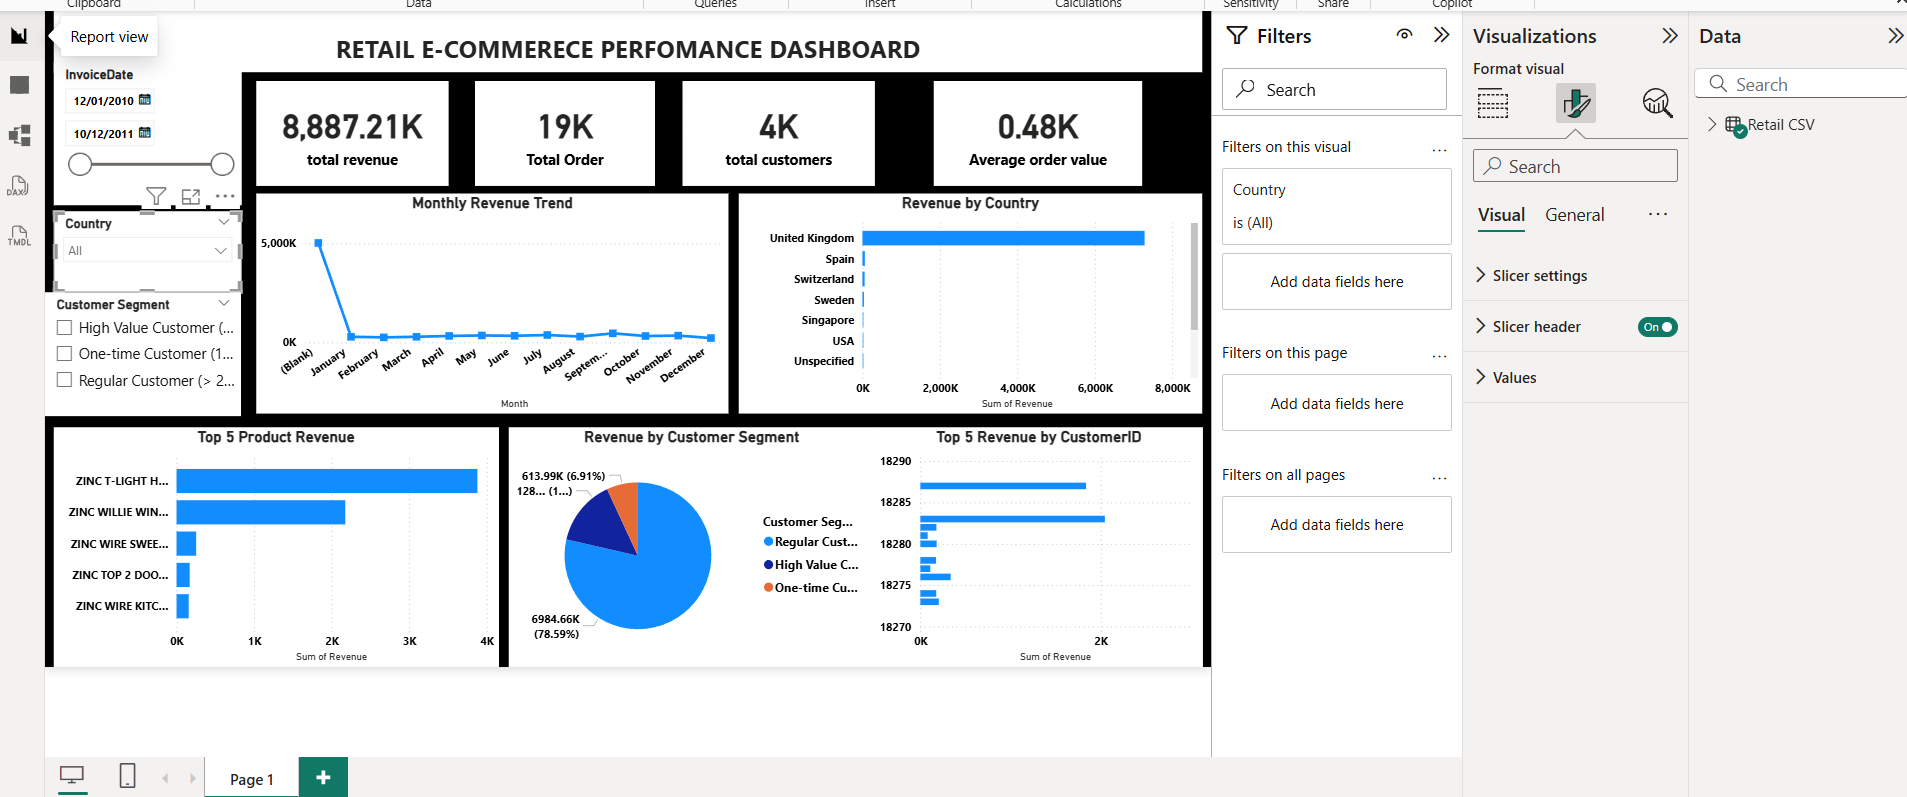

What the dashboard file says about the page in this screenshot:
{"tool":"powerbi","page":{"name":"Page 1","canvas":[1280,720],"ordinal":0},"visuals":[{"type":"textbox","box":[9.6,0,1261.1,67.2],"z":0},{"type":"card","fields":{"Values":["Retail CSV.total revenue"]},"box":[231.9,76.8,211.3,115.3],"z":1000},{"type":"card","fields":{"Values":["Retail CSV.total ORDER"]},"box":[472,76.8,197.6,115.3],"z":2000},{"type":"card","fields":{"Values":["Retail CSV.total customers"]},"box":[699.8,76.8,211.3,115.3],"z":3000},{"type":"card","fields":{"Values":["Retail CSV.Average order value"]},"box":[975.6,76.8,229.2,115.3],"z":4000},{"type":"lineChart","title":"Monthly Revenue Trend","fields":{"Y":["Sum(Retail CSV.Revenue)"],"Category":["Retail CSV.InvoiceDate.Variation.Date Hierarchy.Month"]},"box":[231.9,200.3,518.7,241.5],"z":5000},{"type":"clusteredBarChart","title":"Revenue by Country","fields":{"Category":["Retail CSV.Country"],"Y":["Sum(Retail CSV.Revenue)"]},"box":[761.6,200.3,509.1,241.5],"z":6000},{"type":"clusteredBarChart","title":"Top 5 Product Revenue","fields":{"Category":["Retail CSV.Description"],"Y":["Sum(Retail CSV.Revenue)"]},"box":[9.6,456.9,488.5,263.5],"z":7000},{"type":"pieChart","title":" Revenue by Customer Segment","fields":{"Category":["Retail CSV.Customer Segment"],"Y":["Sum(Retail CSV.Revenue)"]},"box":[509.1,456.9,402.1,263.5],"z":8000},{"type":"clusteredBarChart","title":"Top 5 Revenue by CustomerID","fields":{"Category":["Retail CSV.CustomerID"],"Y":["Sum(Retail CSV.Revenue)"]},"box":[911,457,360,263],"z":9000},{"type":"slicer","fields":{"Values":["Retail CSV.InvoiceDate"]},"box":[9.6,56.3,205.8,156.4],"z":10000},{"type":"slicer","fields":{"Values":["Retail CSV.Country"]},"box":[0,203.1,205.8,89.2],"z":11000},{"type":"slicer","fields":{"Values":["Retail CSV.Customer Segment"]},"box":[0,308.7,215.4,135.8],"z":12000}]}

Visuals, with their boxes on the page's 1280x720 design canvas (x1, y1, x2, y2). These are canvas units, not pixel positions in the 1907x797 screenshot, which may show the page scaled, cropped or inside an application window:
textbox: left=10, top=0, right=1271, bottom=67
card - Retail CSV.total revenue: left=232, top=77, right=443, bottom=192
card - Retail CSV.total ORDER: left=472, top=77, right=670, bottom=192
card - Retail CSV.total customers: left=700, top=77, right=911, bottom=192
card - Retail CSV.Average order value: left=976, top=77, right=1205, bottom=192
"Monthly Revenue Trend" lineChart: left=232, top=200, right=751, bottom=442
"Revenue by Country" clusteredBarChart: left=762, top=200, right=1271, bottom=442
"Top 5 Product Revenue" clusteredBarChart: left=10, top=457, right=498, bottom=720
" Revenue by Customer Segment" pieChart: left=509, top=457, right=911, bottom=720
"Top 5 Revenue by CustomerID" clusteredBarChart: left=911, top=457, right=1271, bottom=720
slicer - Retail CSV.InvoiceDate: left=10, top=56, right=215, bottom=213
slicer - Retail CSV.Country: left=0, top=203, right=206, bottom=292
slicer - Retail CSV.Customer Segment: left=0, top=309, right=215, bottom=444
